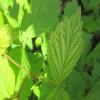Raspberry leaf: (46, 6, 85, 84)
